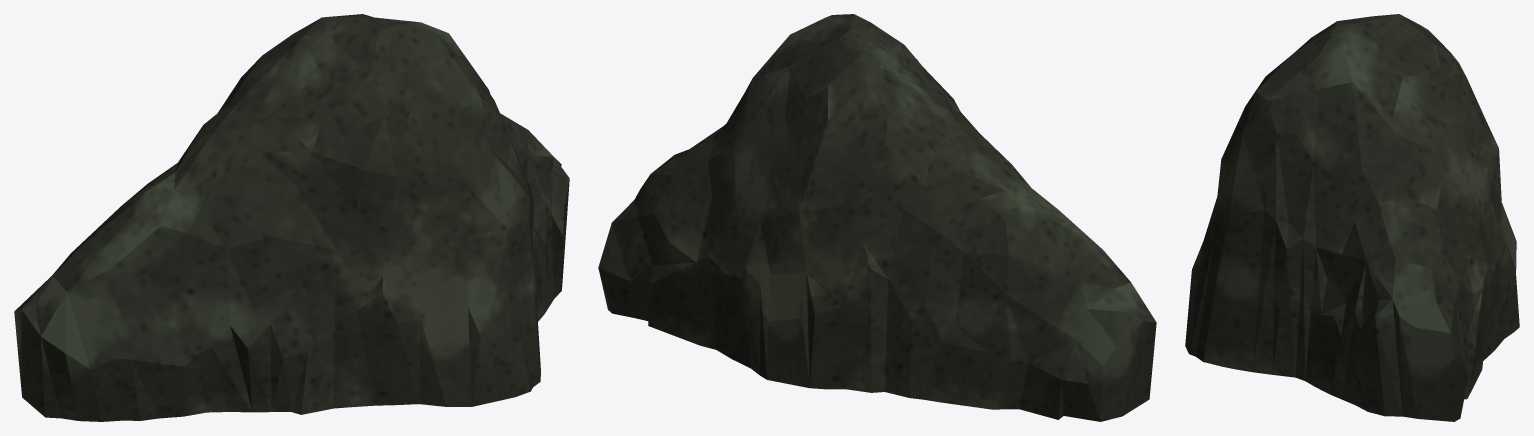
Rendered from CRERock08.glb.
3 views of the same model, side by side, from view 1: azimuth 30°, elevation 25°; view 2: azimuth 150°, elevation 25°; view 3: azimuth 270°, elevation 25° (orthographic). The views are drawn at different scales.
Visible parts, largest first — view 1: CRERock08_rock; view 2: CRERock08_rock; view 3: CRERock08_rock.
Boxes of the visible parts, x1,y1,x2,y2 form: CRERock08_rock: (14, 14, 569, 421); CRERock08_rock: (598, 14, 1156, 421); CRERock08_rock: (1185, 14, 1519, 421).
Bounding box in the file's own units: 5.14 × 2.89 × 2.89.
1 material, 1 textured.
